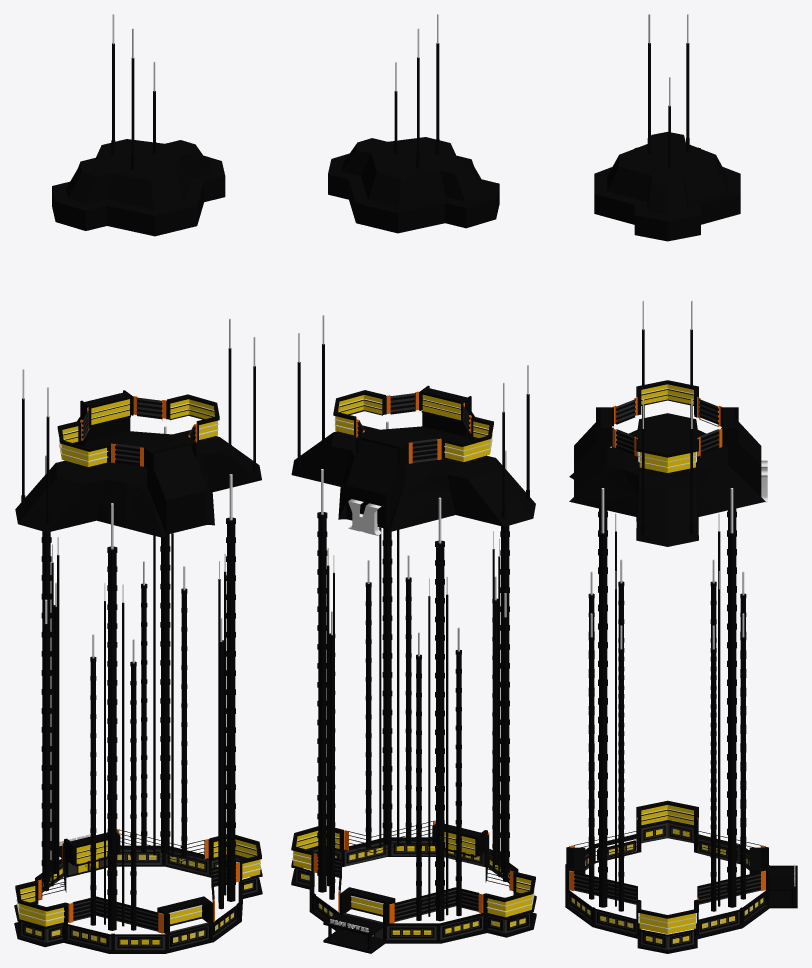
File: Hiraya.fbx
3 renders of one model, left to right at view 1: azimuth 30°, elevation 25°; view 2: azimuth 150°, elevation 25°; view 3: azimuth 270°, elevation 25°, orthographic.
Parts seen in each view (by area): view 1: Neon_Antennas_Big, Neon_Roof, Neon_Floor1_Black, Neon_Floor2_Black, Neon_Antennas_Small, Neon_Base_Foundation, Neon_Base_Main, Neon_Base_Details, Neon_Floor2_Glass, Neon_Floor1_Glass, Neon_Base_Glass, Neon_Floor2_Main (+5 smaller); view 2: Neon_Antennas_Big, Neon_Roof, Neon_Floor1_Black, Neon_Base_Foundation, Neon_Floor2_Black, Neon_Antennas_Small, Neon_Base_Main, Neon_Floor2_Glass, Neon_Base_Details, Neon_Floor1_Glass, Neon_Base_Glass, H (+6 smaller); view 3: Neon_Roof, Neon_Antennas_Big, Neon_Floor1_Black, Neon_Base_Foundation, Neon_Floor2_Black, Neon_Antennas_Small, Neon_Base_Details, Neon_Base_Main, Neon_Floor1_Glass, Neon_Floor2_Glass, Neon_Base_Glass, Neon_Floor1_Main (+3 smaller).
Part boxes in pixels (<box>): Neon_Antennas_Big: <box>41,426,235,930</box>; Neon_Roof: <box>15,139,261,537</box>; Neon_Floor1_Black: <box>15,829,261,933</box>; Neon_Floor2_Black: <box>57,390,219,472</box>; Neon_Antennas_Small: <box>21,14,256,524</box>; Neon_Base_Foundation: <box>14,845,262,953</box>; Neon_Base_Main: <box>21,849,257,949</box>; Neon_Base_Details: <box>18,852,258,948</box>; Neon_Floor2_Glass: <box>59,399,217,466</box>; Neon_Floor1_Glass: <box>17,839,260,926</box>; Neon_Base_Glass: <box>26,854,252,944</box>; Neon_Floor2_Main: <box>83,397,194,462</box>; Neon_Antennas_Big: <box>317,421,509,921</box>; Neon_Roof: <box>291,137,535,531</box>; Neon_Floor1_Black: <box>291,820,535,924</box>; Neon_Base_Foundation: <box>291,837,536,953</box>; Neon_Floor2_Black: <box>333,385,493,467</box>; Neon_Antennas_Small: <box>297,14,529,518</box>; Neon_Base_Main: <box>296,841,530,939</box>; Neon_Floor2_Glass: <box>335,394,492,461</box>; Neon_Base_Details: <box>295,843,532,938</box>; Neon_Floor1_Glass: <box>293,831,534,917</box>; Neon_Base_Glass: <box>301,846,525,936</box>; H: <box>348,499,382,535</box>; Neon_Roof: <box>569,131,765,546</box>; Neon_Antennas_Big: <box>588,488,746,911</box>; Neon_Floor1_Black: <box>566,800,768,919</box>; Neon_Base_Foundation: <box>565,820,797,953</box>; Neon_Floor2_Black: <box>596,380,738,457</box>; Neon_Antennas_Small: <box>641,14,693,534</box>; Neon_Base_Details: <box>569,825,766,947</box>; Neon_Base_Main: <box>569,823,766,949</box>; Neon_Floor1_Glass: <box>639,805,695,934</box>; Neon_Floor2_Glass: <box>639,384,695,472</box>; Neon_Base_Glass: <box>571,828,763,943</box>; Neon_Floor1_Main: <box>574,874,760,904</box>.
Size of the model in its own units: 4248 by 14954 by 3604.
